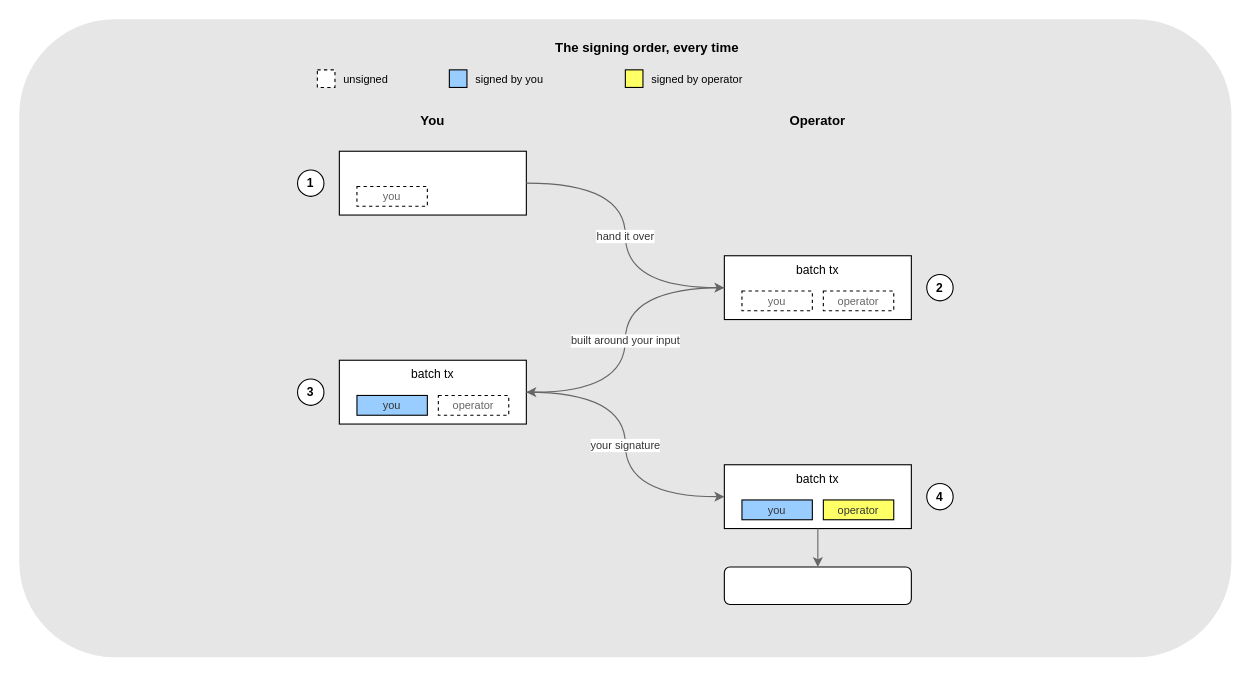
The diagram is 1250 pixels wide and 675 high, and some of its shapes have lost their labels. The box of each missing label's shape, as (x1, y1, x2, y2) in pixels:
Broadcast: (723, 566, 911, 604)
your input: (338, 150, 526, 215)
